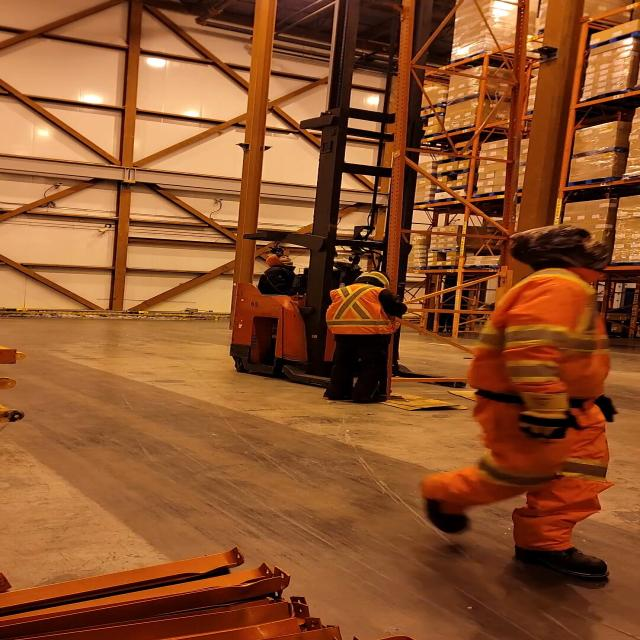forklift: (223, 111, 470, 405)
human: (416, 222, 624, 561), (322, 267, 409, 406), (254, 252, 330, 298)
objectofinterest: (376, 4, 518, 405), (360, 389, 464, 412), (446, 387, 482, 398)
